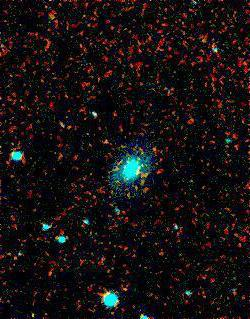star: (141, 133, 171, 163)
